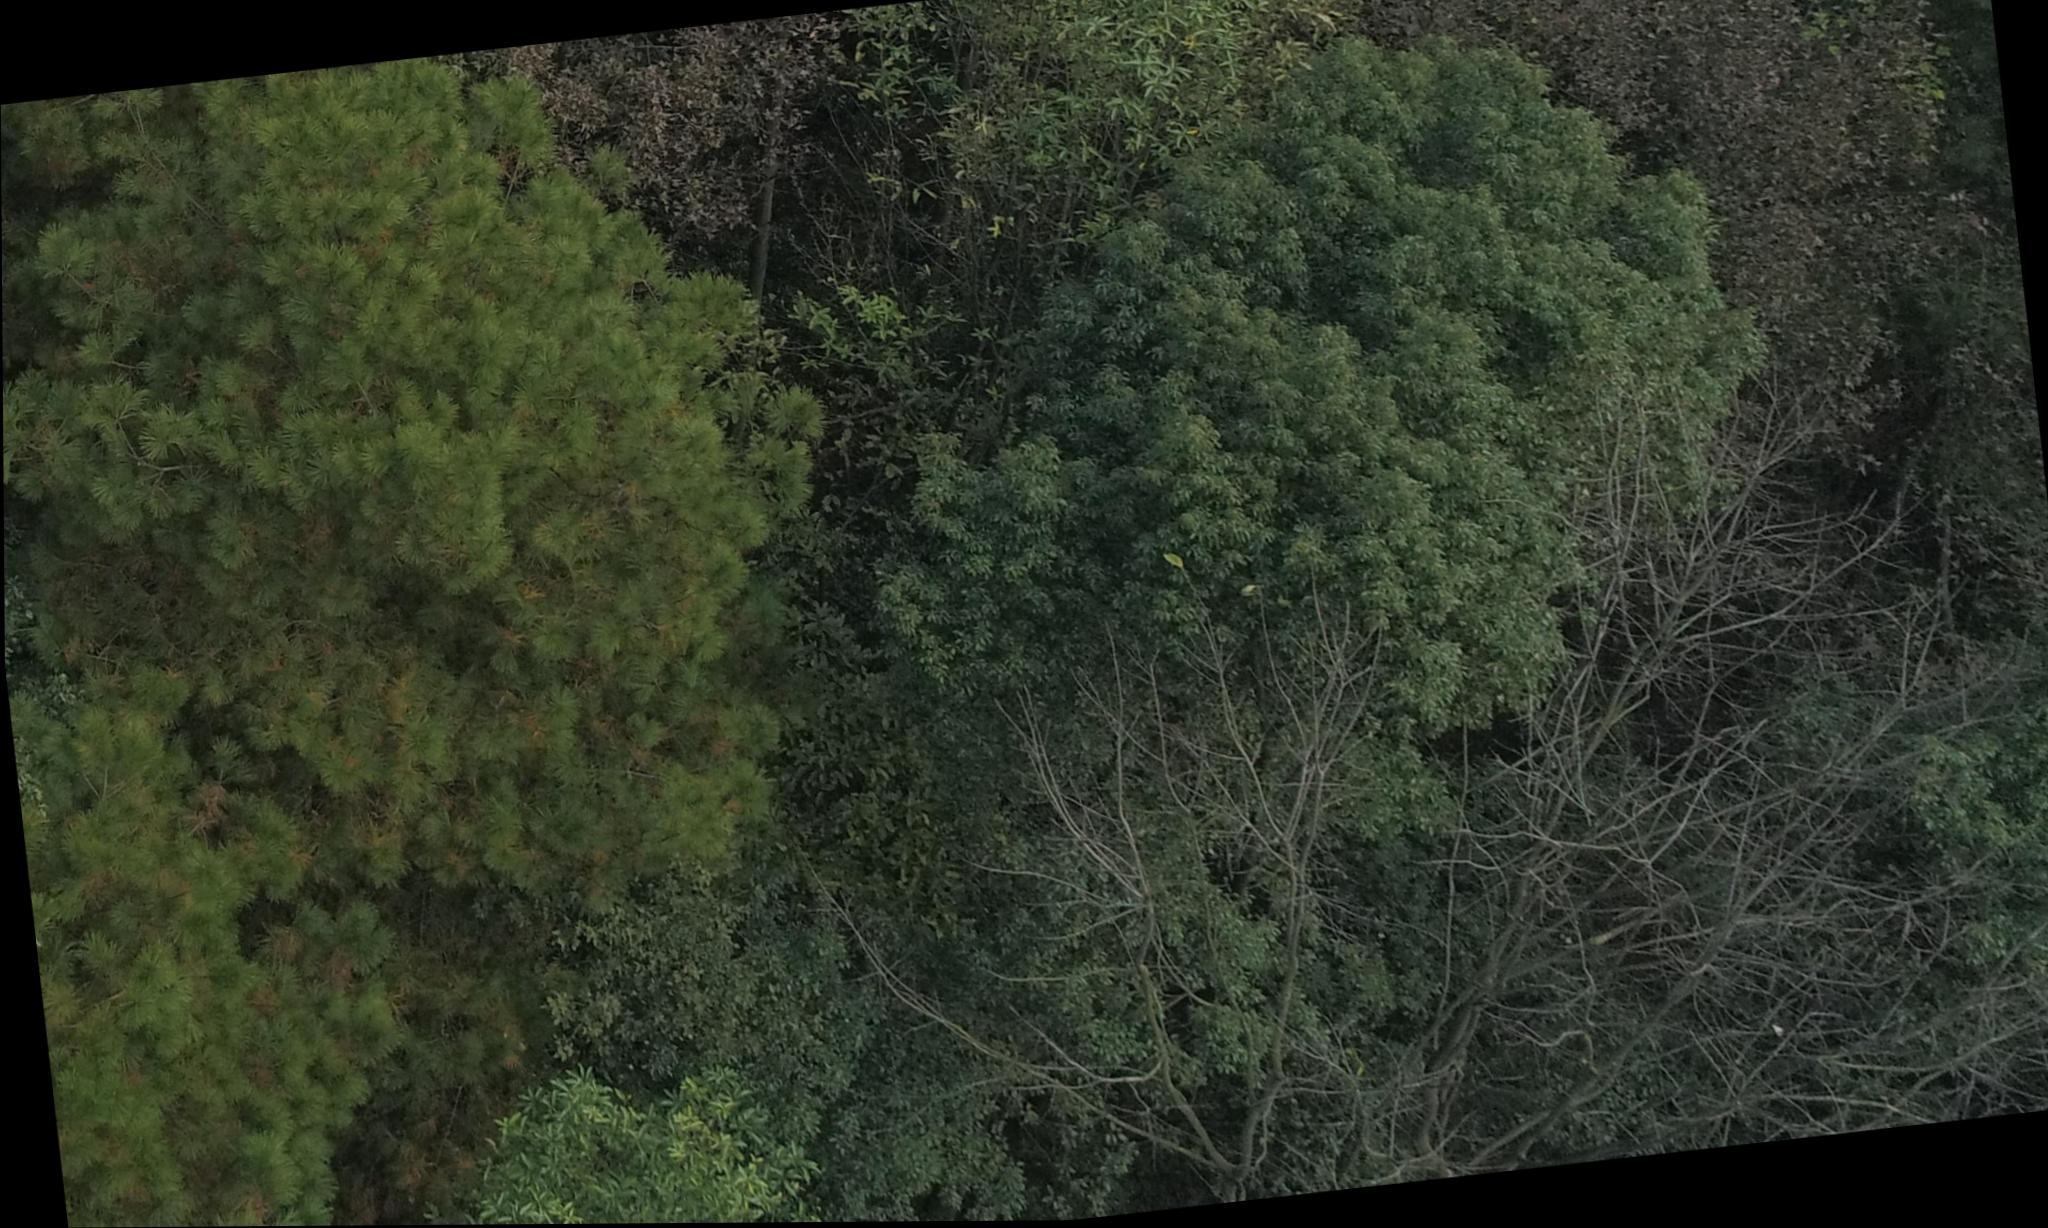light: (0, 107, 791, 1228)
